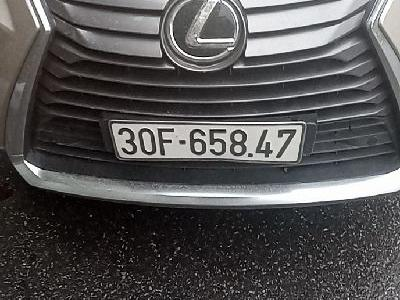lisence: (107, 118, 306, 167)
